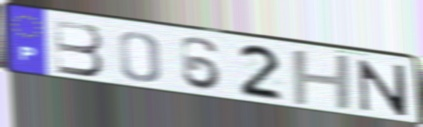0: (117, 30, 164, 84)
2: (236, 43, 287, 105)
6: (179, 36, 223, 95)
B: (51, 18, 107, 79)
H: (289, 49, 356, 112)
N: (356, 58, 410, 118)
